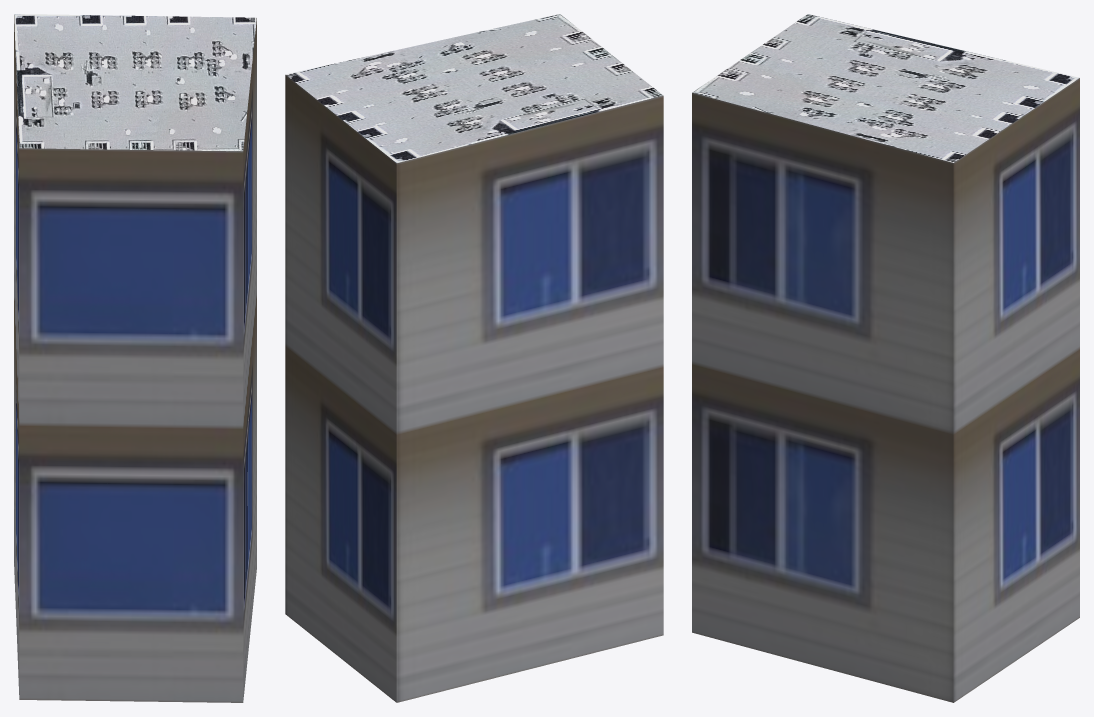
Rendered from ResTex__119.fbx.
3 renders of one model, left to right at view 1: azimuth 30°, elevation 25°; view 2: azimuth 150°, elevation 25°; view 3: azimuth 270°, elevation 25°, orthographic. The views are drawn at different scales.
Visible parts, largest first — view 1: CityEngineMaterial_23_m, CityEngineMaterial_8_m; view 2: CityEngineMaterial_23_m, CityEngineMaterial_8_m; view 3: CityEngineMaterial_23_m, CityEngineMaterial_8_m.
Boxes of the visible parts, x1,y1,x2,y2 form: CityEngineMaterial_23_m: (14, 15, 256, 702); CityEngineMaterial_8_m: (14, 14, 256, 151); CityEngineMaterial_23_m: (285, 75, 663, 702); CityEngineMaterial_8_m: (285, 14, 662, 162); CityEngineMaterial_23_m: (692, 78, 1079, 702); CityEngineMaterial_8_m: (692, 14, 1079, 162).
Bounding box in the file's own units: 3.55 × 6 × 3.91.
Materials: 2 (2 with a texture image).
